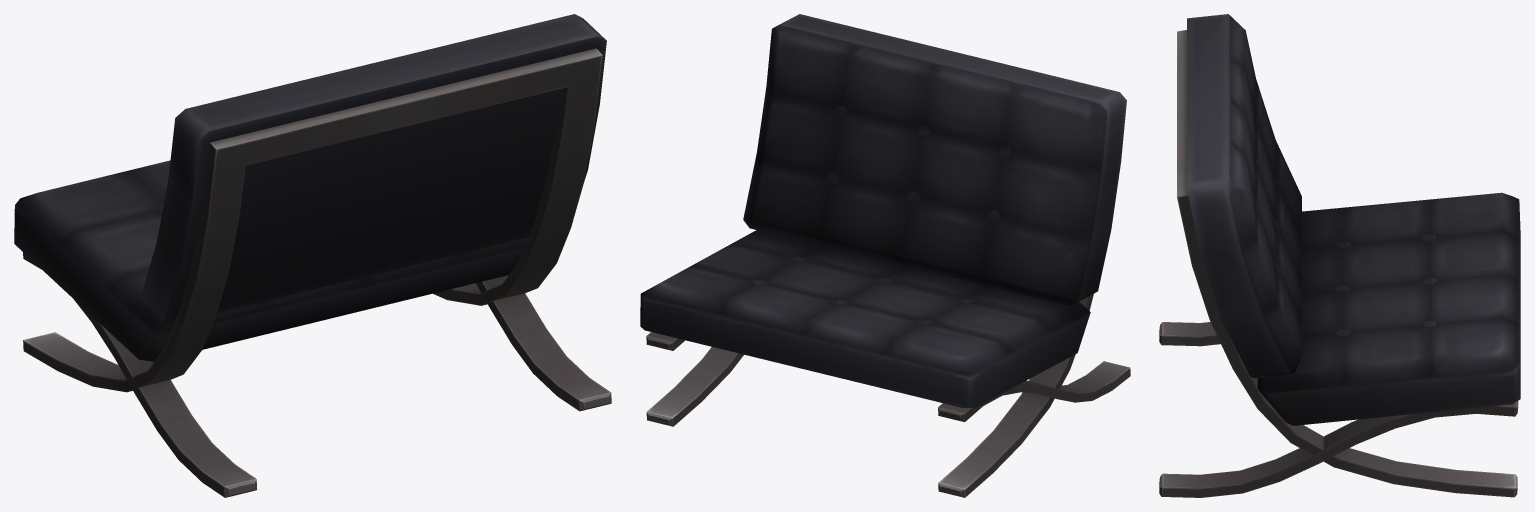
The model's file is furn_we2021_chair_001.gltf.
3 renders of one model, left to right at view 1: azimuth 30°, elevation 25°; view 2: azimuth 150°, elevation 25°; view 3: azimuth 270°, elevation 25°, orthographic. The views are drawn at different scales.
Parts seen in each view (by area): view 1: we2021_chair_001; view 2: we2021_chair_001; view 3: we2021_chair_001.
Part boxes in pixels (left/top/right/bottom): we2021_chair_001: left=14, top=14, right=611, bottom=497; we2021_chair_001: left=640, top=14, right=1130, bottom=497; we2021_chair_001: left=1159, top=14, right=1520, bottom=497.
Bounding box in the file's own units: 0.7346 × 0.6237 × 0.6423.
Materials: 1 (1 with a texture image).
